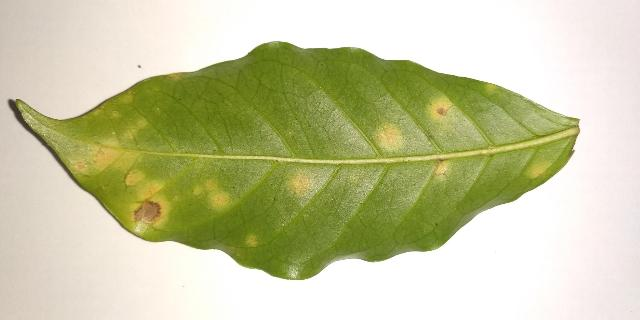miner: (125, 171, 168, 232), (90, 142, 138, 171), (193, 180, 229, 208), (428, 97, 454, 123), (121, 117, 148, 140), (378, 126, 401, 147), (528, 158, 552, 178), (288, 174, 311, 192), (74, 159, 86, 171), (435, 162, 446, 175), (247, 236, 257, 246), (111, 112, 120, 120), (172, 72, 179, 76), (0, 318, 1, 320), (578, 129, 579, 131), (638, 0, 640, 1)
